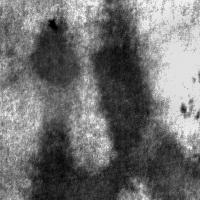patches: (91, 2, 184, 198), (11, 33, 109, 131), (31, 117, 103, 200), (137, 20, 200, 114), (27, 14, 79, 91)
